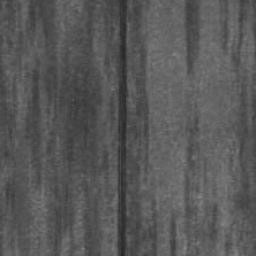Scratches: (115, 0, 128, 256)
